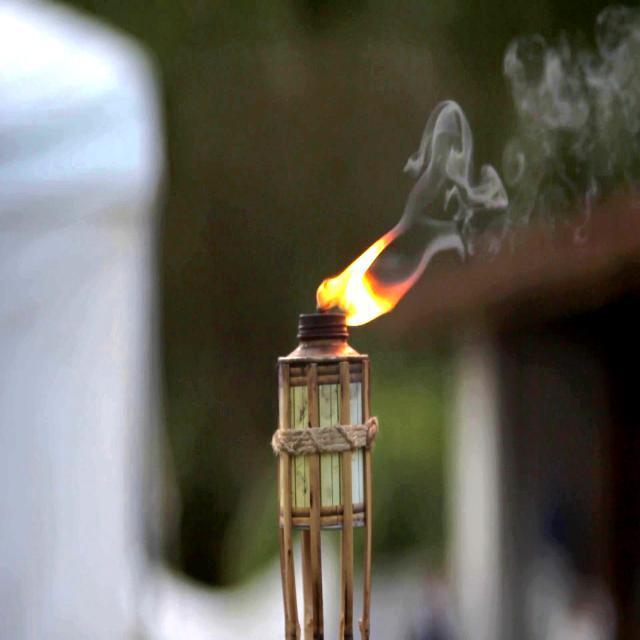Fire: (310, 225, 412, 330)
Smoke: (416, 22, 640, 248)
